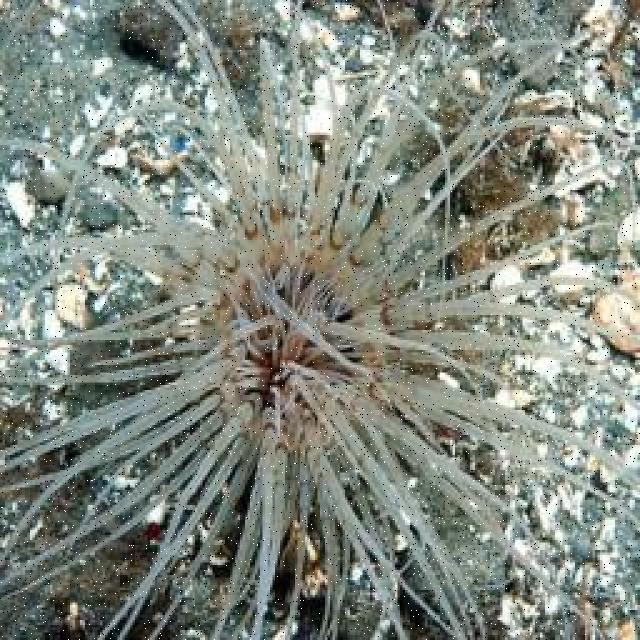reefs: (0, 1, 638, 638)
